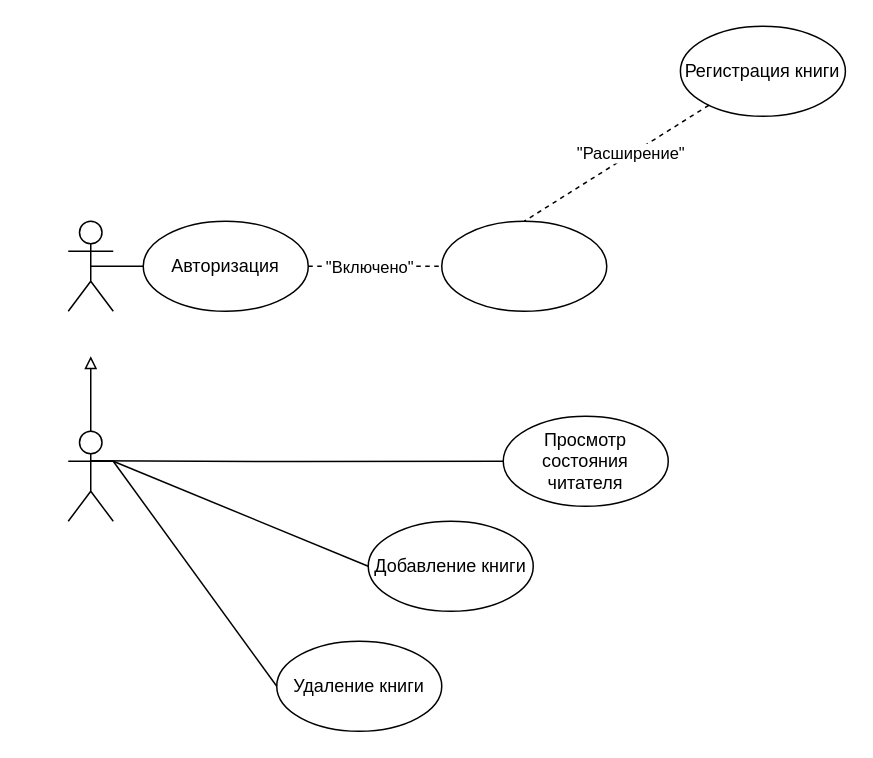
This 873x758 diagram has some shape labels left out. Here are the shapes that lost their labels. From the top down, the box of each, then its label:
(67, 220, 113, 311): Читатель
(440, 220, 607, 311): Просмотр книги
(67, 430, 113, 521): Администратор
